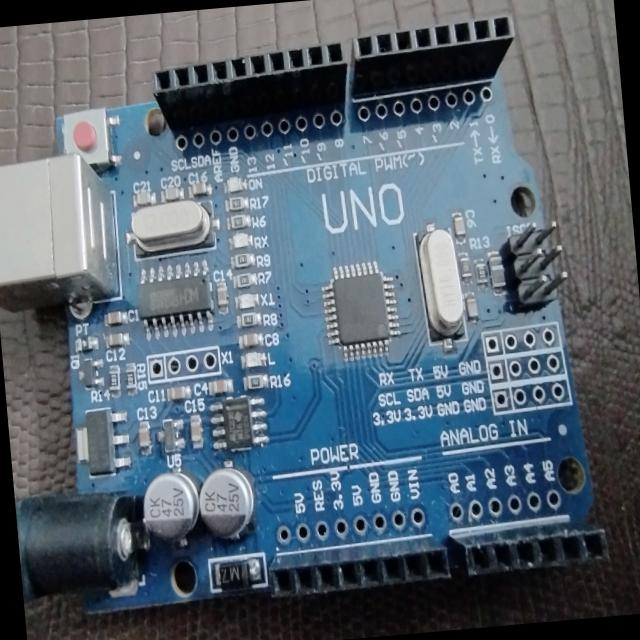arduino: (0, 5, 618, 628)
